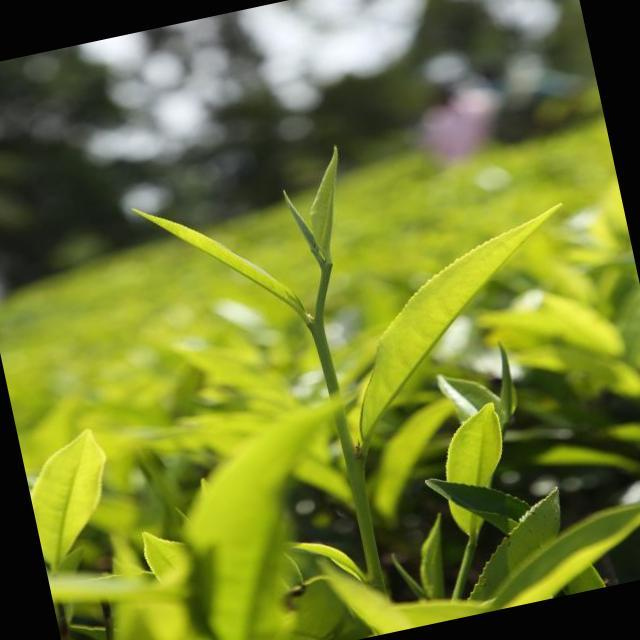Stem: (313, 316, 323, 339)
